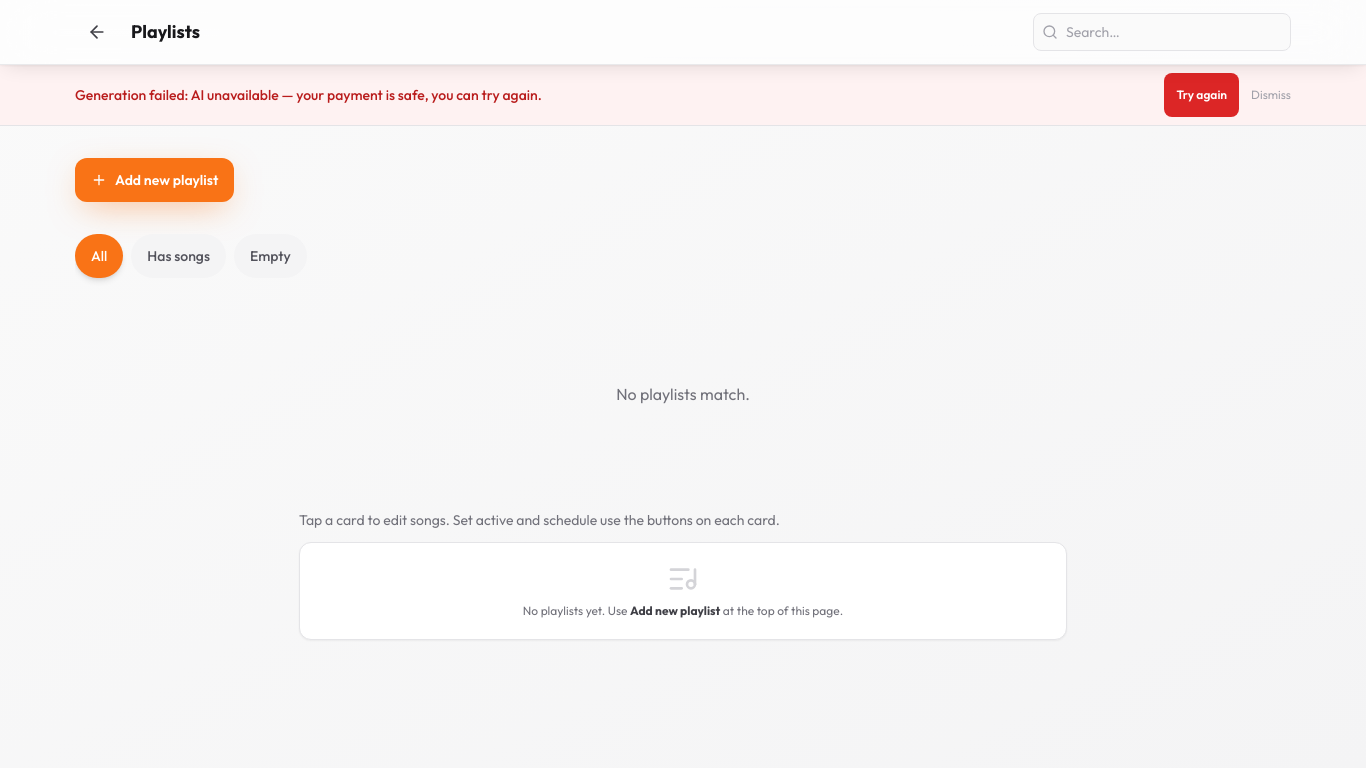
Test: AI playlist redemption — the receipt › the retry redeems the same checkout and succeeds
Click the button "Try again" at (1202, 95), box [1164,73,1239,117]
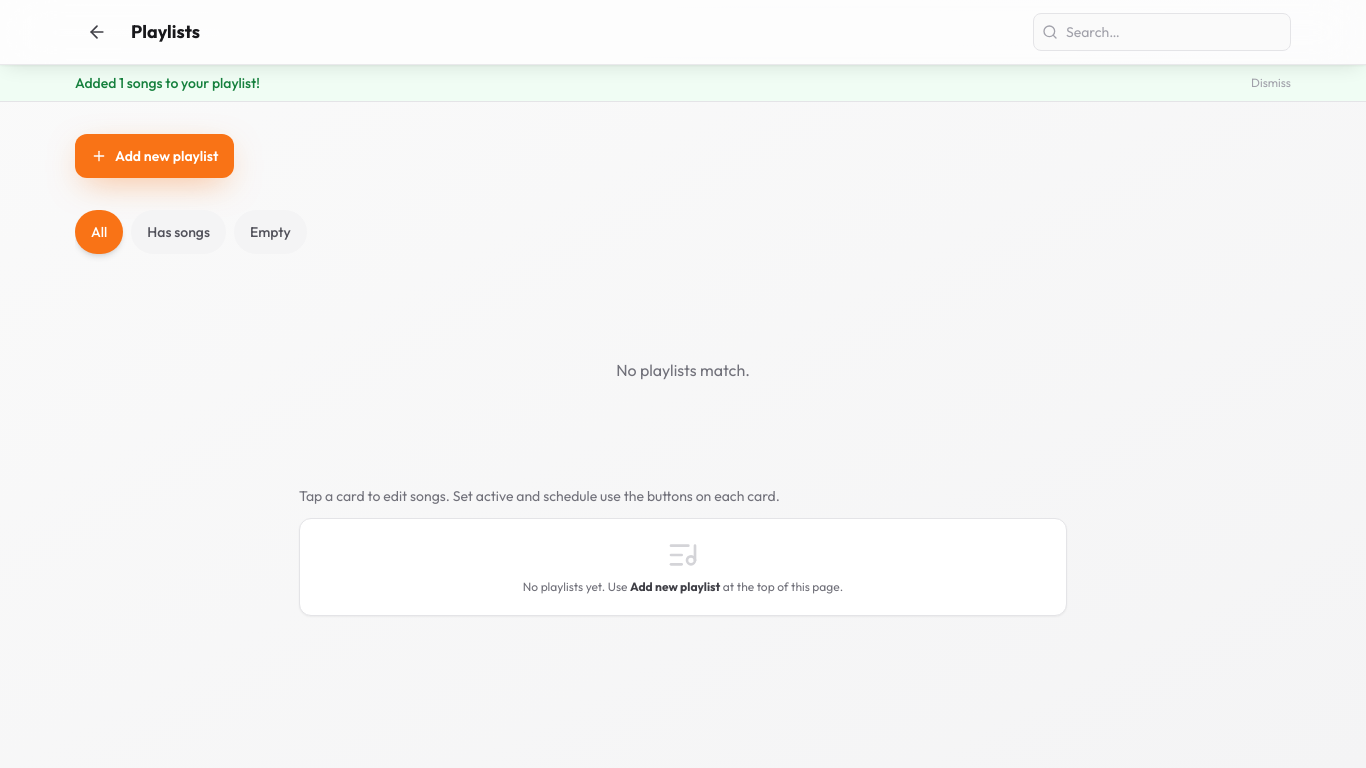
Now the text "Added 1 songs to your playlist!" is shown, box [75,73,260,93]
